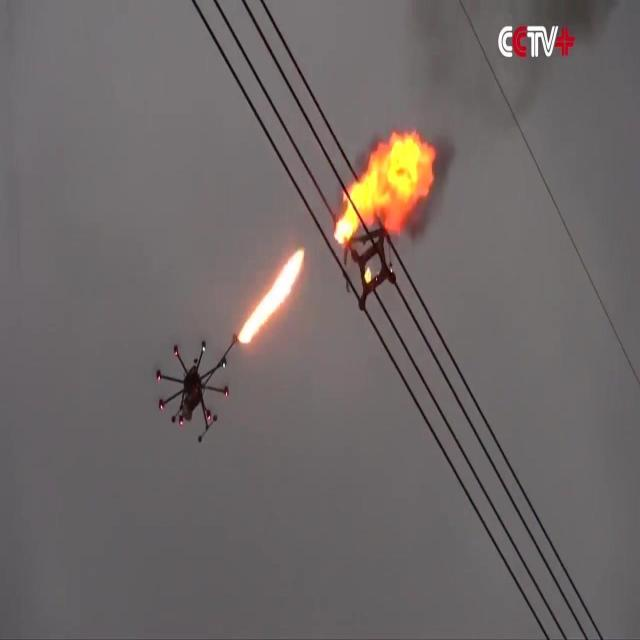drone: (158, 336, 231, 444)
